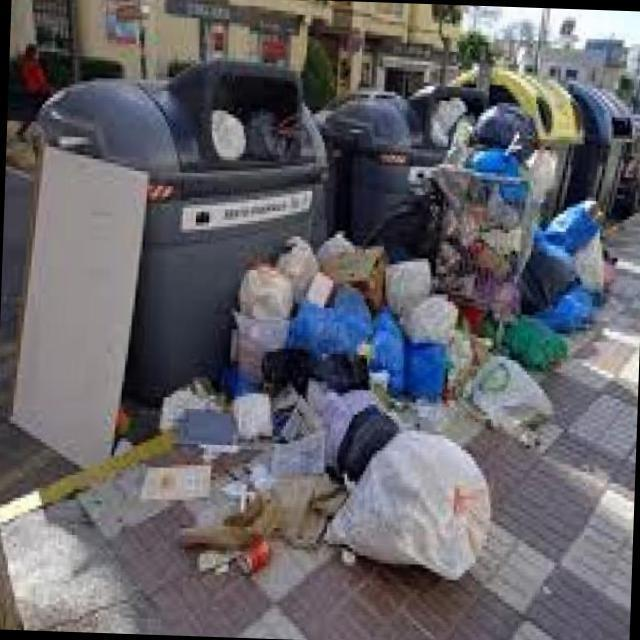garbage: (131, 76, 629, 590)
